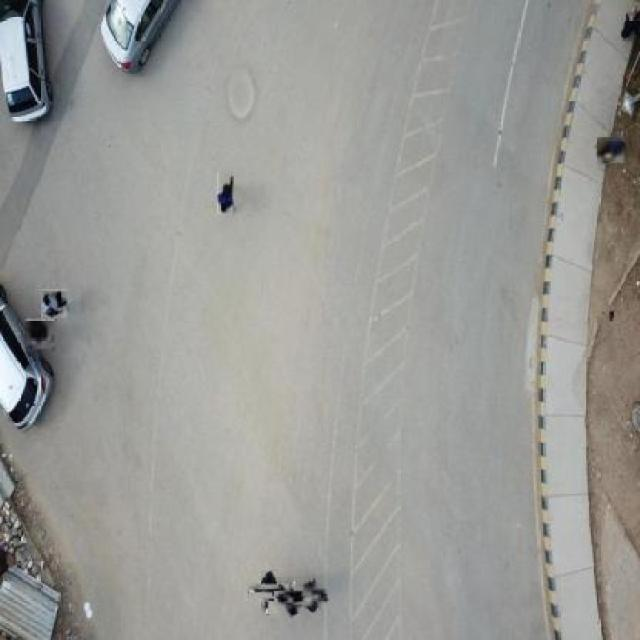Person: (253, 577, 284, 609), (26, 320, 56, 351), (280, 585, 308, 613), (41, 290, 68, 319), (598, 137, 625, 165), (217, 172, 234, 216), (298, 583, 324, 609)
